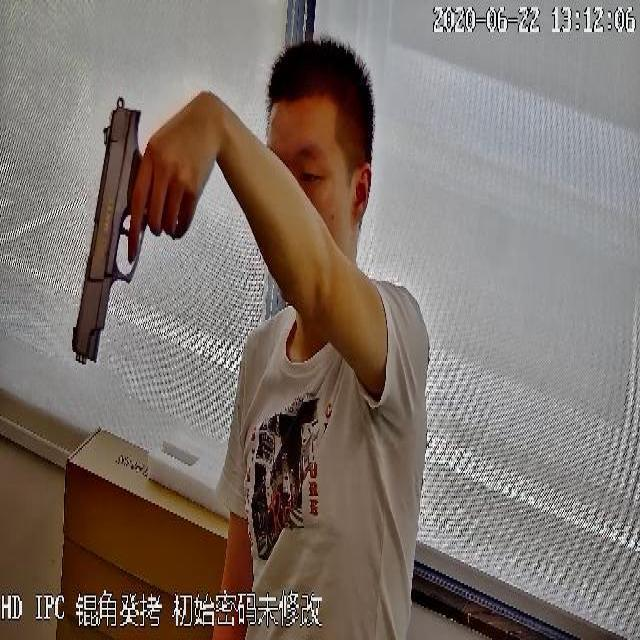pistol: (74, 95, 182, 365)
